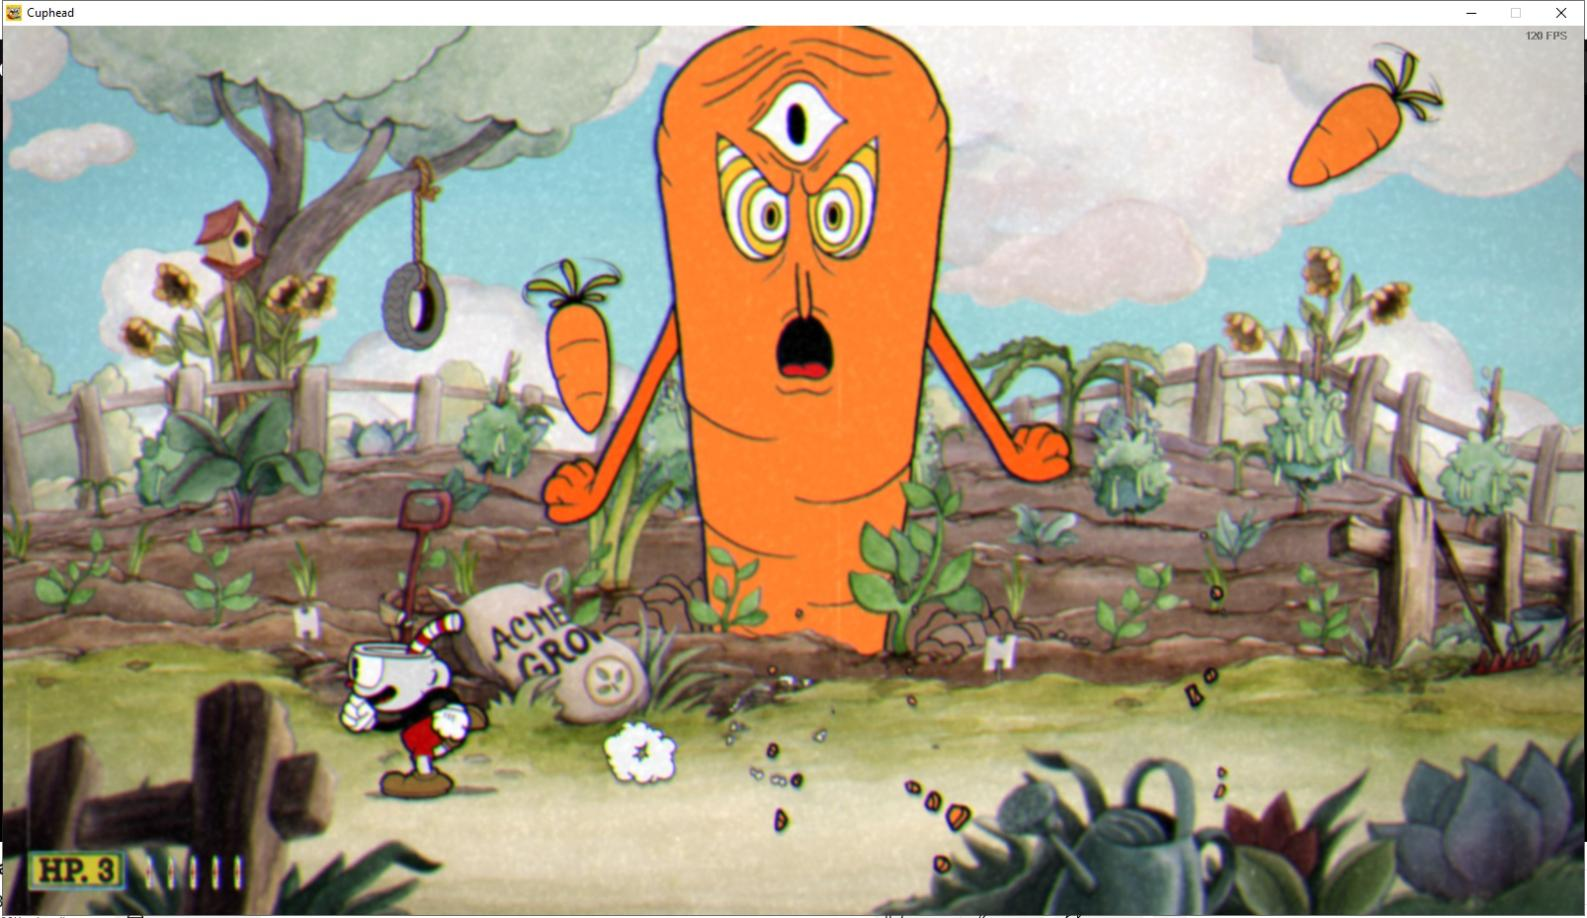carrot: (1284, 56, 1454, 198), (533, 257, 631, 443)
hp3: (94, 852, 124, 890)
player: (360, 610, 470, 806)
